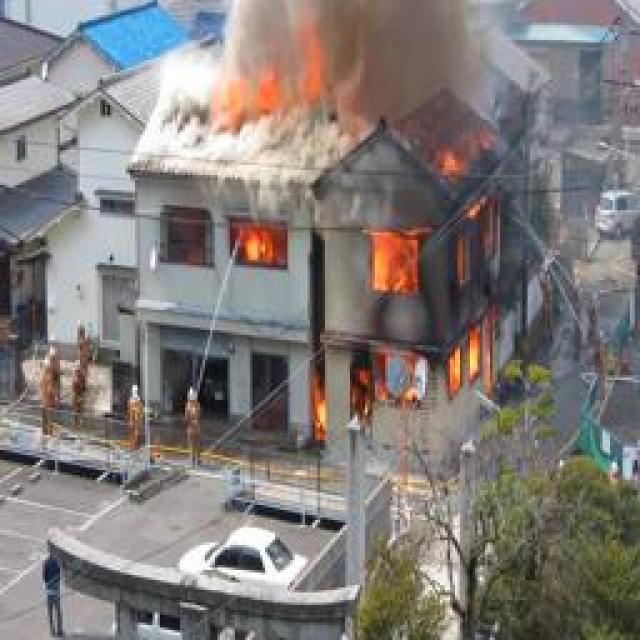Fire: (338, 125, 524, 436), (199, 25, 336, 137), (224, 211, 291, 270)
